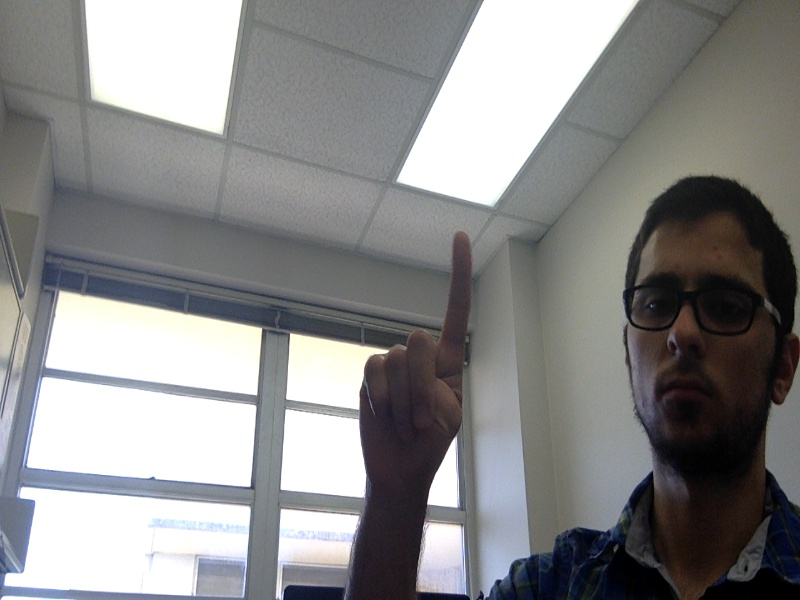1-hand: (357, 232, 471, 493)
